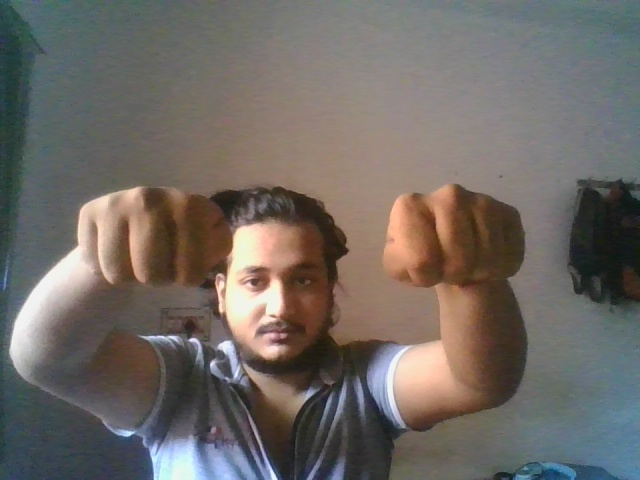Close: (76, 185, 233, 287), (381, 182, 527, 288)
